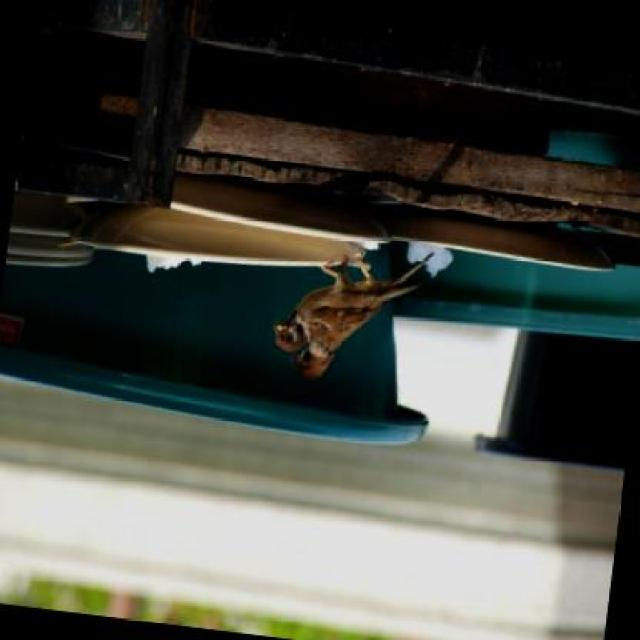sparrow: (269, 238, 428, 391)
